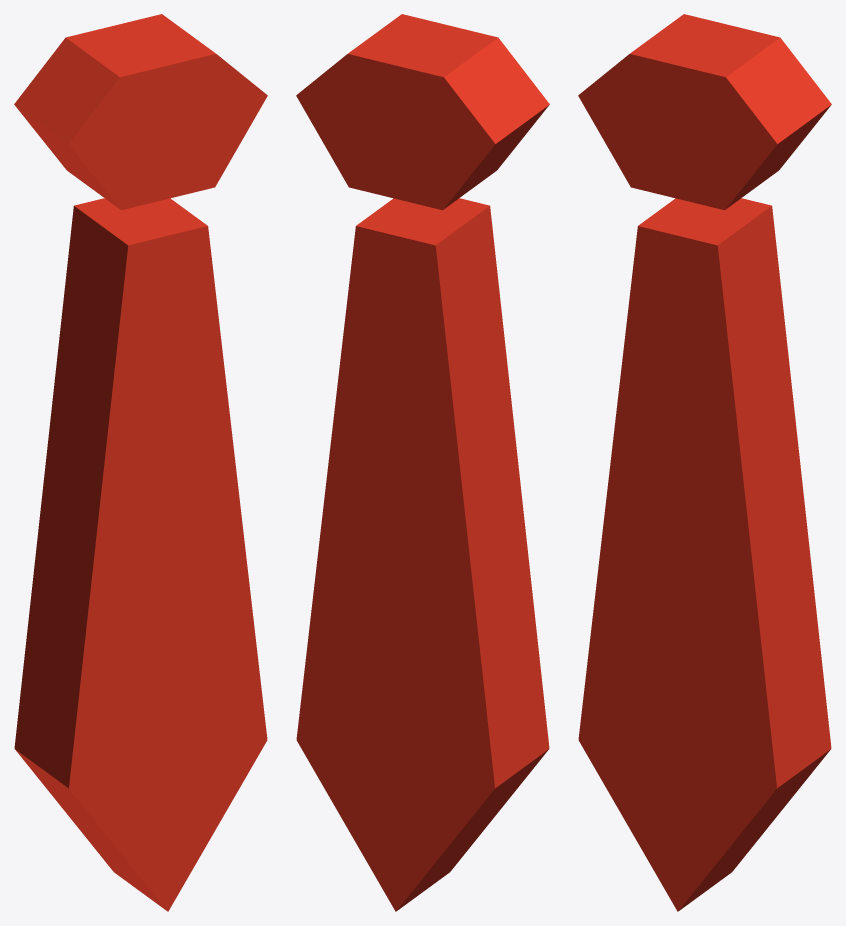
File: Icon_Necktie.fbx
3 renders of one model, left to right at view 1: azimuth 30°, elevation 25°; view 2: azimuth 150°, elevation 25°; view 3: azimuth 330°, elevation 25°, orthographic.
Visible parts, largest first — view 1: Icon_Necktie; view 2: Icon_Necktie; view 3: Icon_Necktie.
Part boxes in pixels (<box>): Icon_Necktie: <box>14,14,267,911</box>; Icon_Necktie: <box>296,14,549,911</box>; Icon_Necktie: <box>578,14,831,911</box>.
Size of the model in its own units: 19.19 by 77.8 by 9.06.
